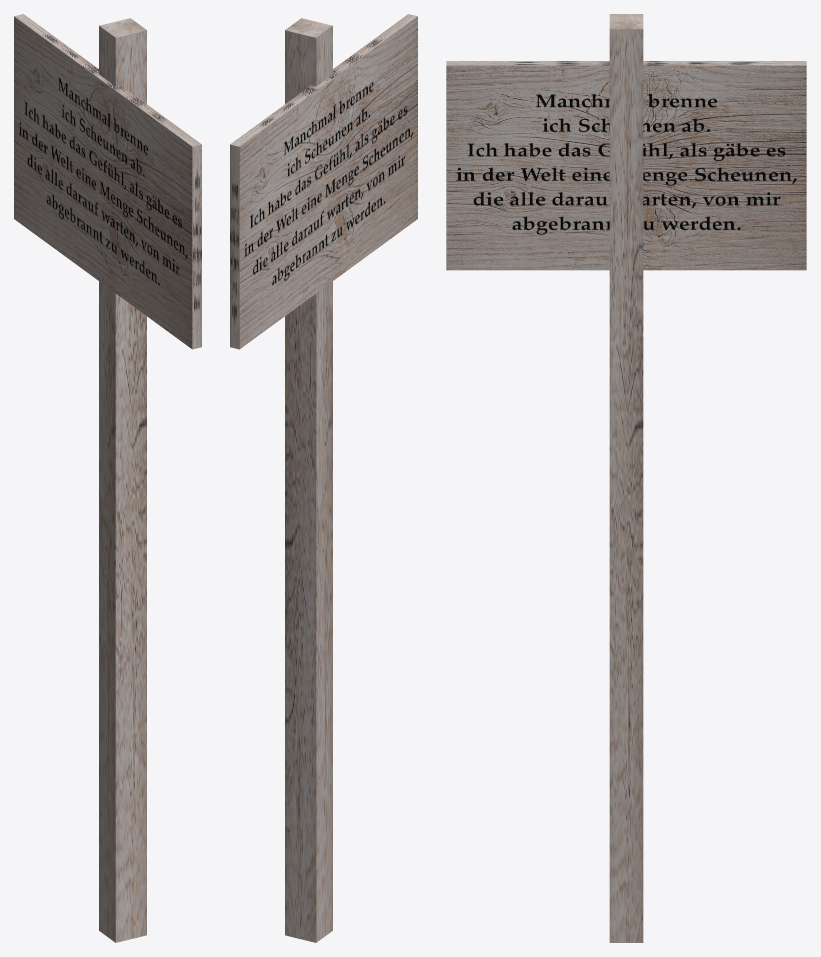
Rendered from Schild Scheune1.fbx.
The picture shows the model from 3 angles, left to right: view 1: azimuth 30°, elevation 25°; view 2: azimuth 150°, elevation 25°; view 3: azimuth 270°, elevation 25°; orthographic projection.
Parts seen in each view (by area): view 1: Cube__1_, Cube; view 2: Cube__1_, Cube; view 3: Cube__1_, Cube.
Boxes of the visible parts, left/top/right/bottom form: Cube__1_: left=14, top=14, right=201, bottom=349; Cube: left=99, top=18, right=146, bottom=942; Cube__1_: left=230, top=14, right=417, bottom=349; Cube: left=285, top=18, right=332, bottom=942; Cube__1_: left=446, top=61, right=806, bottom=270; Cube: left=609, top=14, right=643, bottom=942.
Bounding box in the file's own units: 12.87 × 313 × 112.
